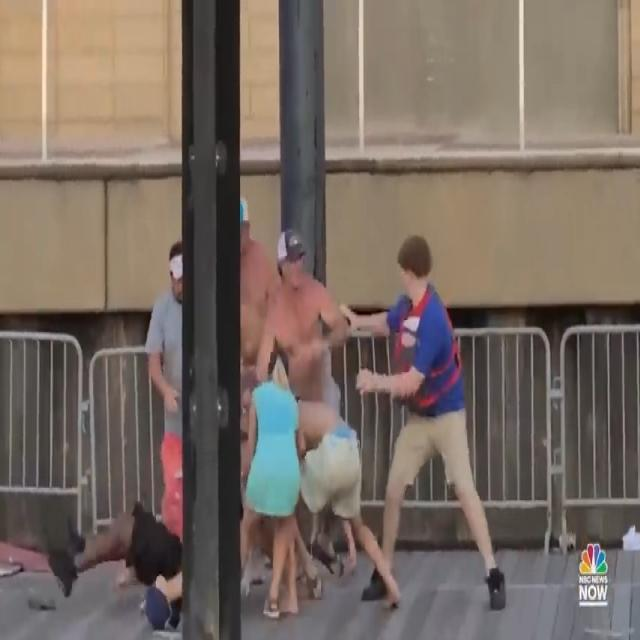fight: (46, 188, 517, 623)
